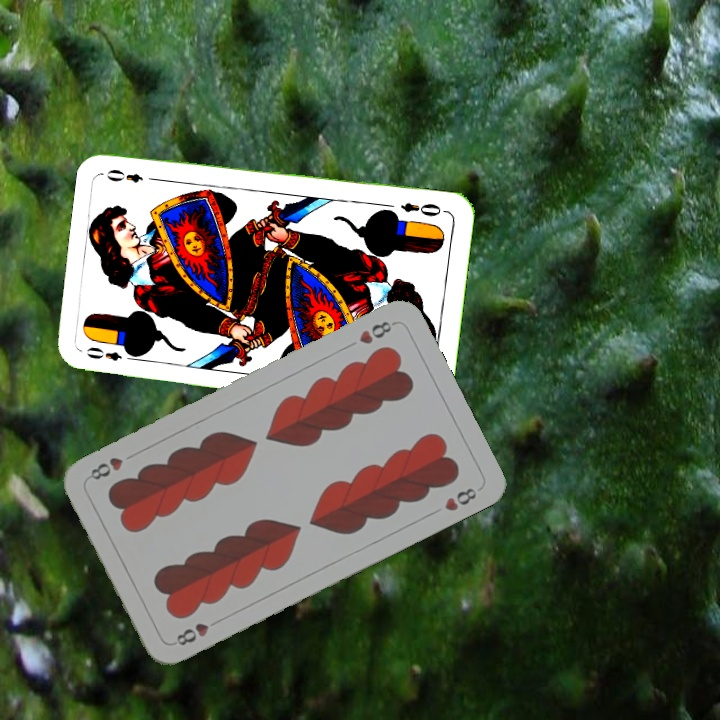EO: (82, 342, 139, 364), (397, 198, 449, 219)
H8: (172, 614, 224, 649), (354, 317, 398, 347)
